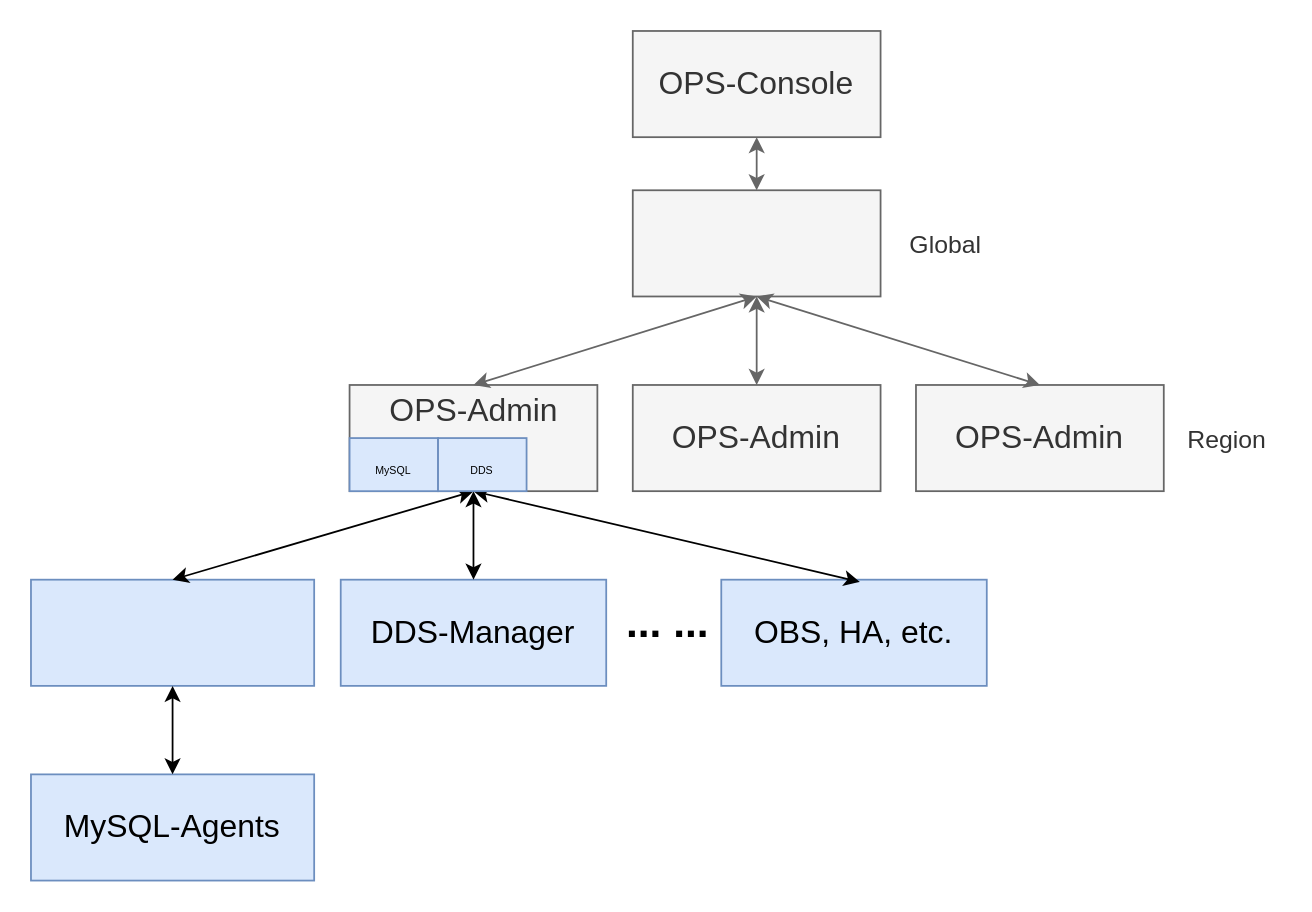
The diagram is 1312 pixels wide and 912 high, and some of its shapes have lost their labels. Here are the shapes that lost their labels. From the top down, the centre of each, then its label:
At point (756, 242): "OPS-Base".
At point (171, 632): "MySQL-Manager".
